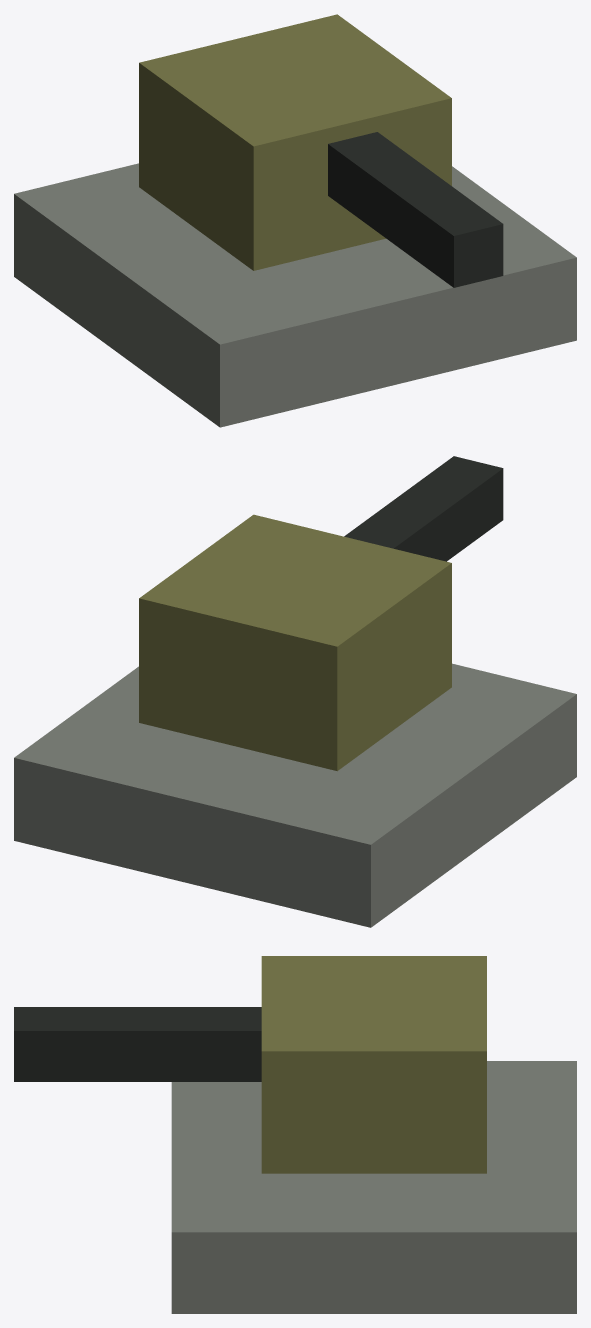
The model's file is turret.gltf.
3 views of the same model, one above another, from view 1: azimuth 30°, elevation 25°; view 2: azimuth 150°, elevation 25°; view 3: azimuth 270°, elevation 25° (orthographic).
Parts seen in each view (by area): view 1: base, housing, barrel; view 2: base, housing, barrel; view 3: base, housing, barrel.
Boxes of the visible parts, bbox=[...] form: base: bbox=[14, 163, 576, 427]; housing: bbox=[139, 14, 451, 270]; barrel: bbox=[328, 132, 503, 287]; base: bbox=[14, 663, 576, 927]; housing: bbox=[139, 514, 451, 771]; barrel: bbox=[344, 456, 503, 561]; base: bbox=[171, 1061, 576, 1313]; housing: bbox=[261, 956, 486, 1173]; barrel: bbox=[14, 1007, 261, 1081].
Bounding box in the file's own units: 1.8 × 1.1 × 2.5.
